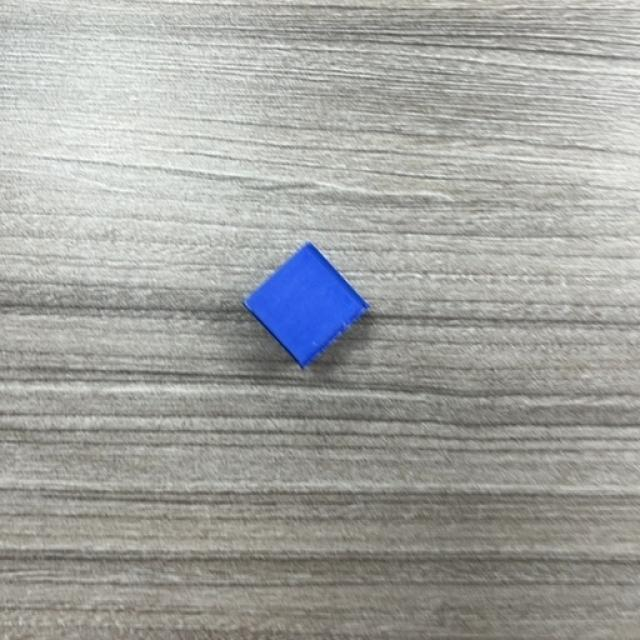Azul: (242, 244, 371, 369)
